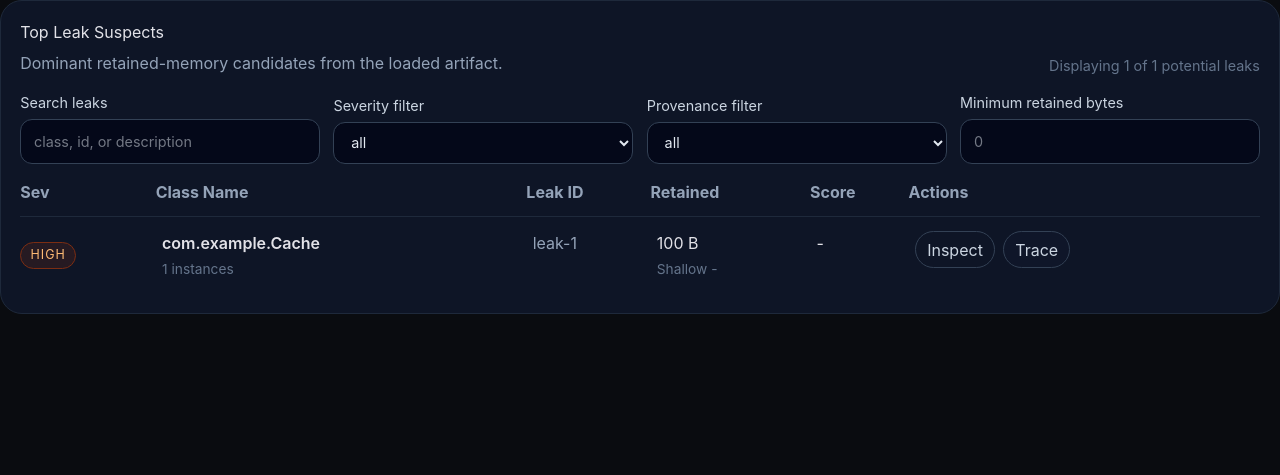
Test case: LeakTable › toggles inline leak details through inspect and hide
Check: the text "inline drilldown is intentionally restrained in this slice" is not shown
Click the button "Inspect" at (955, 250), box x1=915 y1=231 x2=995 y2=268
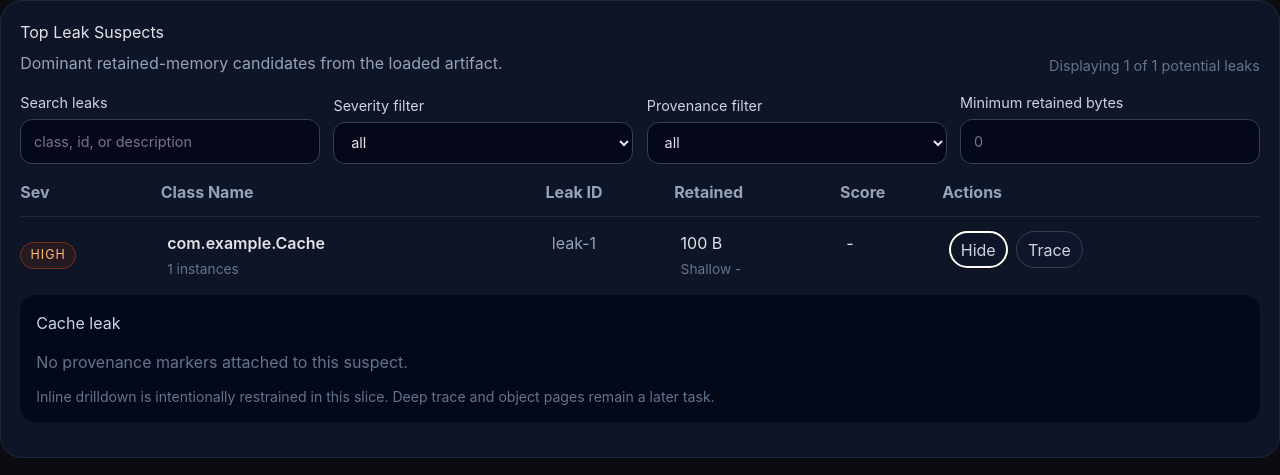
Check: the text "Inline drilldown is intentionally restrained in this slice" is shown, box x1=36 y1=388 x2=715 y2=404
Check: the button "Hide" is shown
Click the button "Hide" at (978, 250), box x1=948 y1=231 x2=1008 y2=268
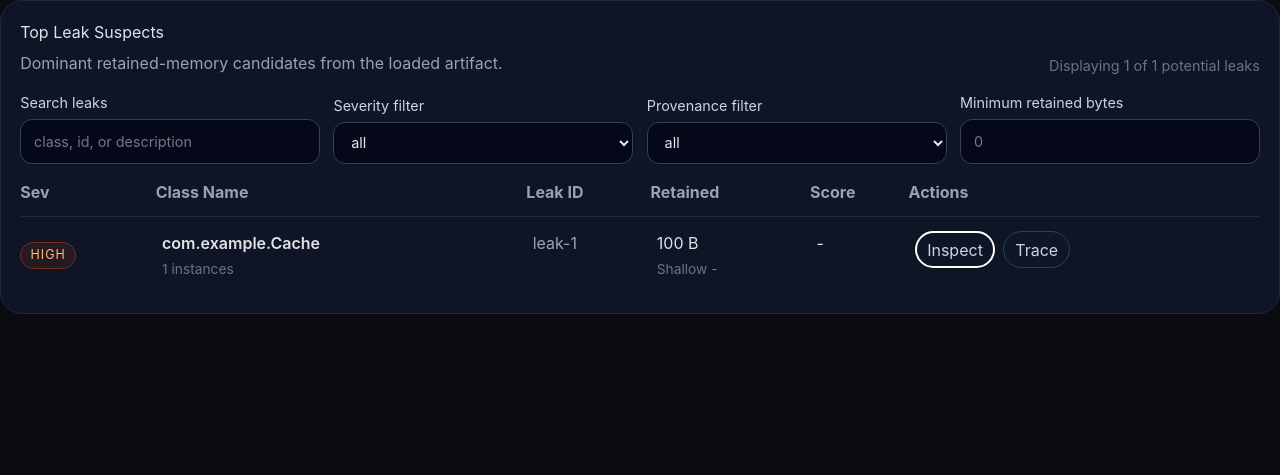
Check: the text "Inline drilldown is intentionally restrained in this slice" is gone
Check: the button "Inspect" is shown, box x1=915 y1=231 x2=995 y2=268
